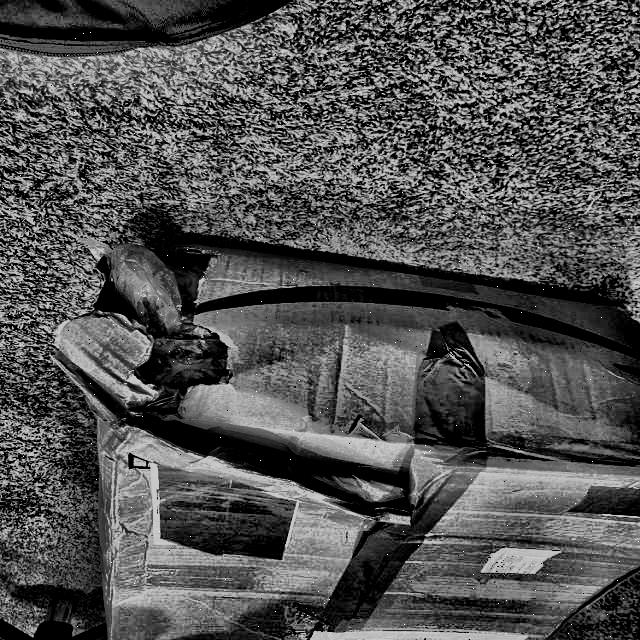box: (38, 229, 639, 640)
hole: (87, 236, 251, 424)
